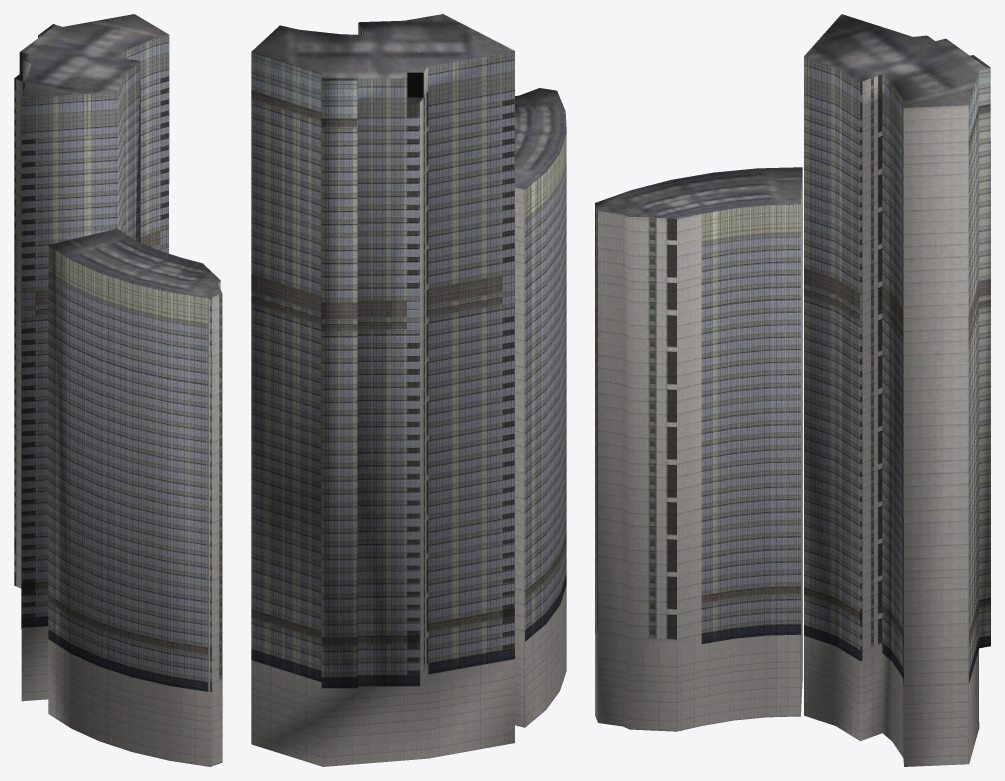
File: FourSeasonsHotel_HighLOD.dae
3 renders of one model, left to right at view 1: azimuth 30°, elevation 25°; view 2: azimuth 150°, elevation 25°; view 3: azimuth 270°, elevation 25°, orthographic. The views are drawn at different scales.
Parts seen in each view (by area): view 1: FourSeasonsHotel; view 2: FourSeasonsHotel; view 3: FourSeasonsHotel.
Boxes of the visible parts, left/top/right/bottom form: FourSeasonsHotel: left=14, top=14, right=222, bottom=766; FourSeasonsHotel: left=251, top=14, right=566, bottom=766; FourSeasonsHotel: left=595, top=14, right=990, bottom=766.
Size of the model in its own units: 62.77 by 112 by 206.
Materials: 1 (1 with a texture image).
